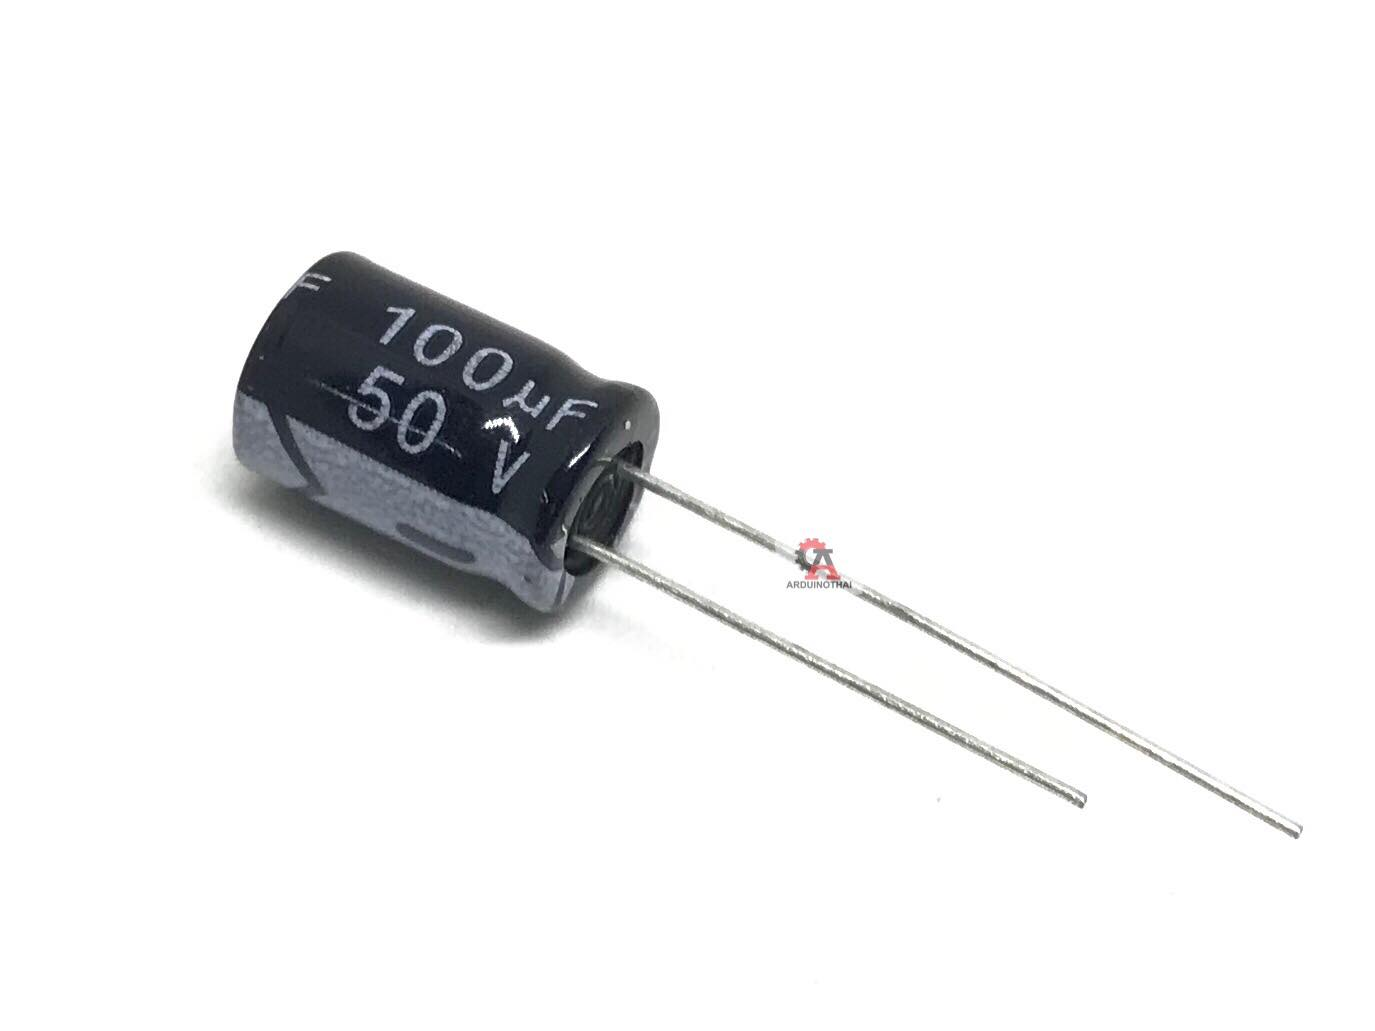capacitor: (204, 147, 746, 789)
